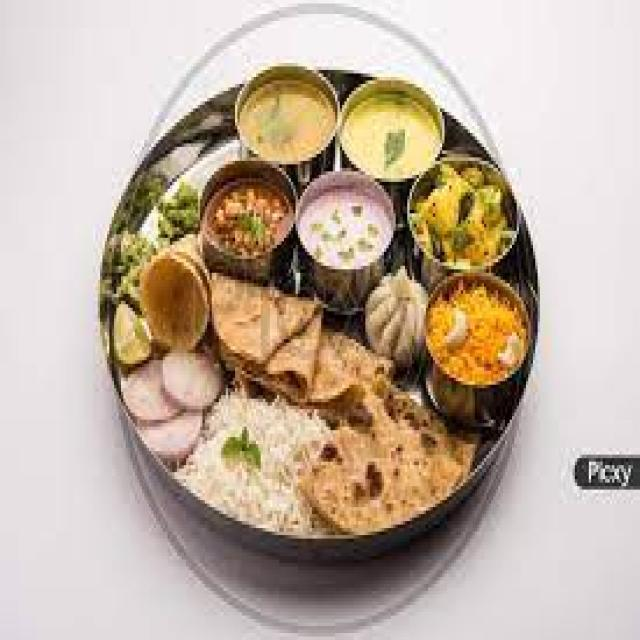dal: (340, 79, 448, 184)
papad: (199, 265, 357, 415)
raita: (293, 173, 399, 282)
rice: (193, 383, 323, 531)
roti: (202, 346, 460, 551)
sambar-rasam: (338, 76, 448, 184)
sweet: (110, 237, 218, 375), (109, 342, 220, 459)
veg-fry: (191, 164, 301, 284)
